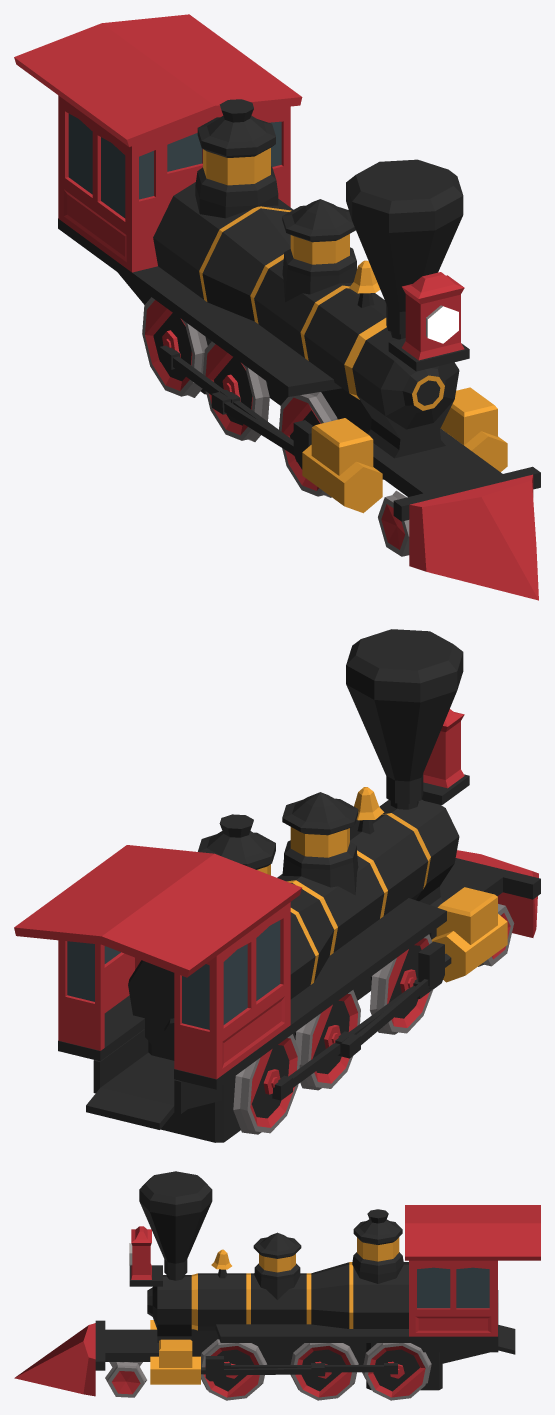
The model's file is vehicles_locomotive-western.fbx.
The picture shows the model from 3 angles, top to bottom: view 1: azimuth 30°, elevation 25°; view 2: azimuth 150°, elevation 25°; view 3: azimuth 270°, elevation 25°; orthographic projection. The views are drawn at different scales.
Parts seen in each view (by area): view 1: locomotive_western_base, locomotive_wheel4, locomotive_wheel3, locomotive_wheel2, con_rod_L, locomotive_wheel1, drive_rod_BL; view 2: locomotive_western_base, locomotive_wheel4, locomotive_wheel3, locomotive_wheel2, con_rod_L, drive_rod_BL, drive_rod_FL, locomotive_bell_western; view 3: locomotive_western_base, locomotive_wheel4, locomotive_wheel3, locomotive_wheel2, locomotive_wheel1, con_rod_R, drive_rod_BR, drive_rod_FR.
Boxes of the visible parts, <box> form: locomotive_western_base: <box>14,14,540,600</box>; locomotive_wheel4: <box>142,297,207,397</box>; locomotive_wheel3: <box>203,341,269,441</box>; locomotive_wheel2: <box>279,392,337,497</box>; con_rod_L: <box>159,345,293,455</box>; locomotive_wheel1: <box>378,490,409,556</box>; drive_rod_BL: <box>211,392,293,454</box>; locomotive_western_base: <box>14,629,540,1142</box>; locomotive_wheel4: <box>233,1034,300,1134</box>; locomotive_wheel3: <box>294,990,360,1090</box>; locomotive_wheel2: <box>370,934,432,1034</box>; con_rod_L: <box>272,978,431,1100</box>; drive_rod_BL: <box>341,979,429,1058</box>; drive_rod_FL: <box>418,941,451,989</box>; locomotive_bell_western: <box>354,787,384,820</box>; locomotive_western_base: <box>14,1171,540,1396</box>; locomotive_wheel4: <box>362,1343,431,1400</box>; locomotive_wheel3: <box>290,1343,358,1400</box>; locomotive_wheel2: <box>200,1339,267,1400</box>; locomotive_wheel1: <box>105,1362,146,1397</box>; con_rod_R: <box>224,1363,397,1374</box>; drive_rod_BR: <box>224,1365,324,1376</box>; drive_rod_FR: <box>201,1356,223,1381</box>.
Bounding box in the file's own units: 46.31 × 85.27 × 200.
